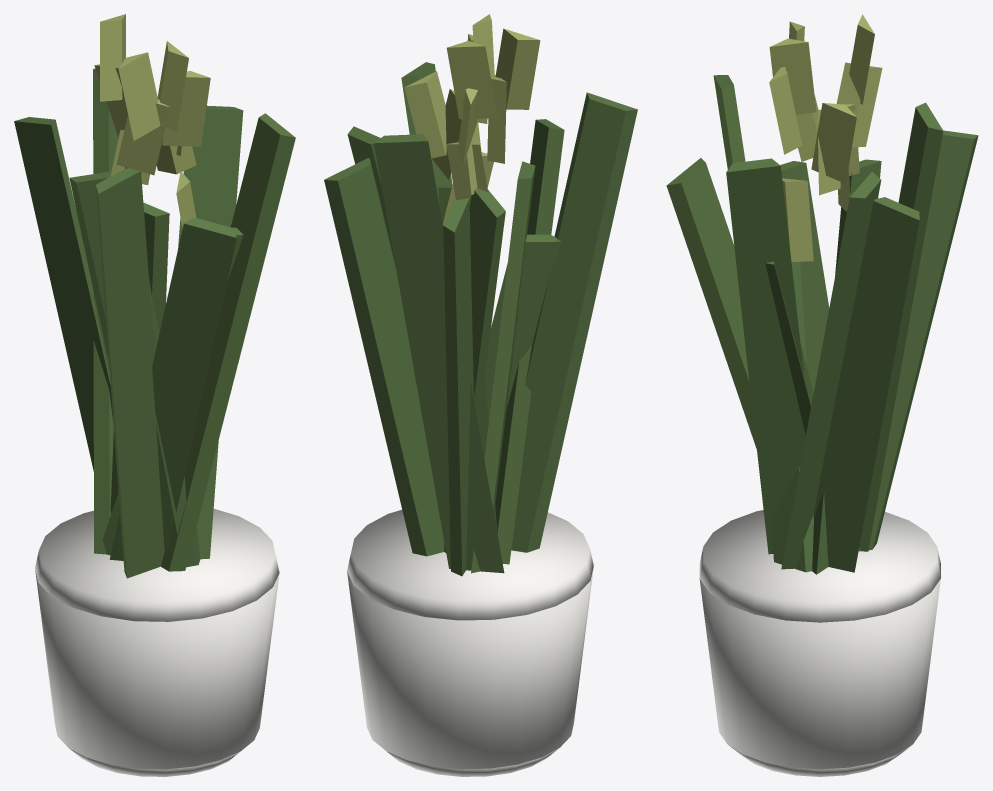
File: rios_snake_plant.glb
3 views of the same model, side by side, from view 1: azimuth 30°, elevation 25°; view 2: azimuth 150°, elevation 25°; view 3: azimuth 270°, elevation 25° (orthographic).
Visible parts, largest first — view 1: root; view 2: root; view 3: root.
Part boxes in pixels (bbox=[...]): root: bbox=[14, 14, 295, 776]; root: bbox=[324, 14, 637, 776]; root: bbox=[666, 14, 978, 776].
Bounding box in the file's own units: 0.3893 × 1.21 × 0.4838.
